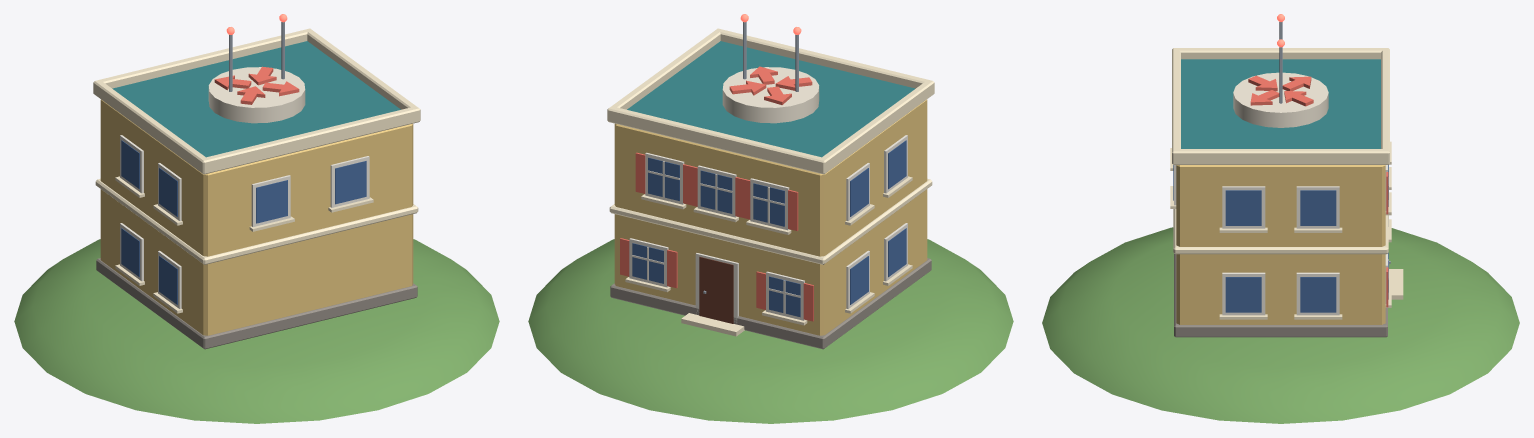
File: bld_d3_b.glb
The picture shows the model from 3 angles, left to right: view 1: azimuth 30°, elevation 25°; view 2: azimuth 150°, elevation 25°; view 3: azimuth 270°, elevation 25°; orthographic projection.
Visible parts, largest first — view 1: bld_d3_b; view 2: bld_d3_b; view 3: bld_d3_b.
Boxes of the visible parts, x1,y1,x2,y2 form: bld_d3_b: [14, 14, 499, 423]; bld_d3_b: [528, 14, 1013, 423]; bld_d3_b: [1042, 14, 1519, 423].
Size of the model in its own units: 16 by 10.94 by 16.
